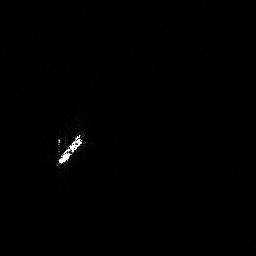ship: (51, 131, 89, 169)
